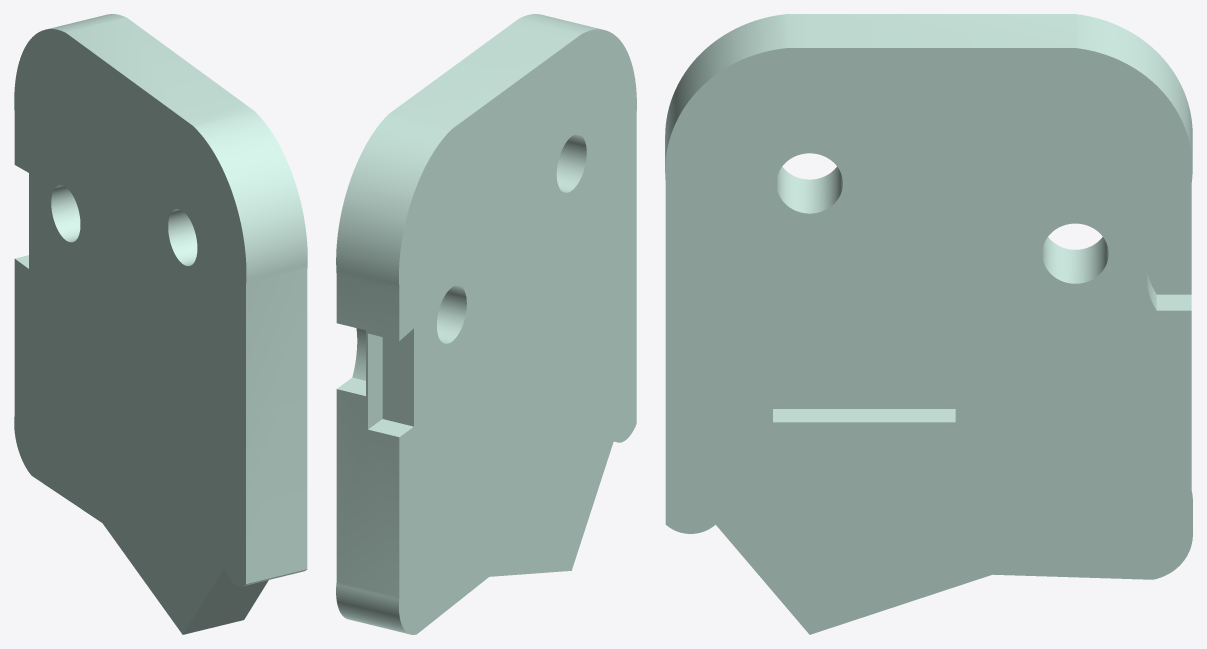
3 renders of one model, left to right at view 1: azimuth 30°, elevation 25°; view 2: azimuth 150°, elevation 25°; view 3: azimuth 270°, elevation 25°, orthographic. The views are drawn at different scales.
Parts seen in each view (by area): view 1: Renderer Node; view 2: Renderer Node; view 3: Renderer Node.
Boxes of the visible parts, x1,y1,x2,y2 form: Renderer Node: (14, 14, 307, 634); Renderer Node: (336, 14, 636, 634); Renderer Node: (665, 14, 1192, 634).
Size of the model in its own units: 0.2344 by 1.89 by 1.54.
